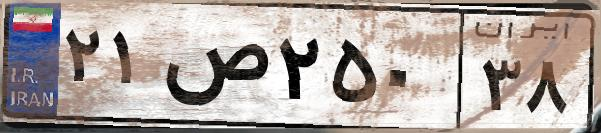0: (385, 28, 445, 110)
1: (110, 28, 158, 98)
2: (270, 28, 330, 110), (57, 26, 110, 100)
3: (475, 38, 525, 113)
5: (330, 28, 385, 110)
8: (525, 38, 570, 115)
ص: (158, 20, 270, 120)
